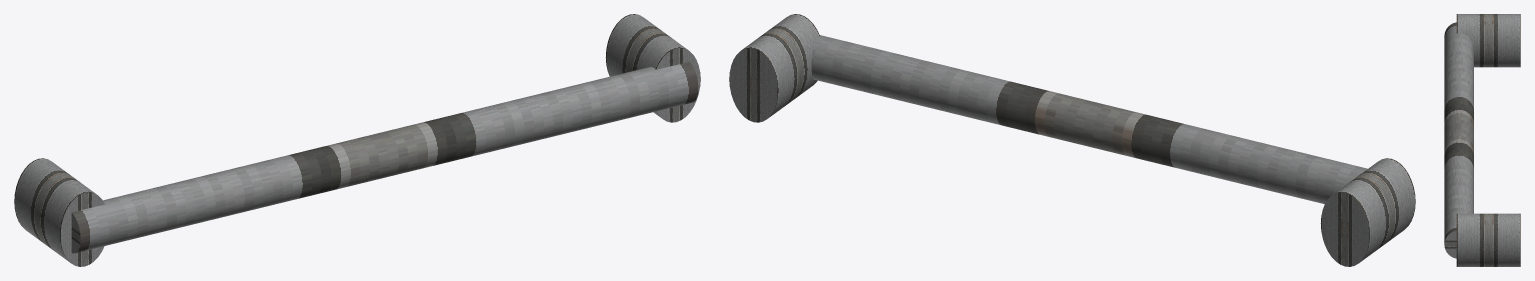
Rendered from safety-bar.glb.
The picture shows the model from 3 angles, left to right: view 1: azimuth 30°, elevation 25°; view 2: azimuth 150°, elevation 25°; view 3: azimuth 270°, elevation 25°; orthographic projection. The views are drawn at different scales.
Parts seen in each view (by area): view 1: bar, base (×2); view 2: bar, base (×2); view 3: base (×2), bar.
Boxes of the visible parts, x1,y1,x2,y2 form: bar: (71, 62, 698, 253); base (×2): (14, 14, 700, 266); bar: (811, 35, 1367, 204); base (×2): (729, 14, 1415, 266); base (×2): (1456, 14, 1520, 266); bar: (1444, 22, 1473, 258).
Size of the model in its own units: 0.6234 by 0.0688 by 0.093.
1 material, 1 textured.
